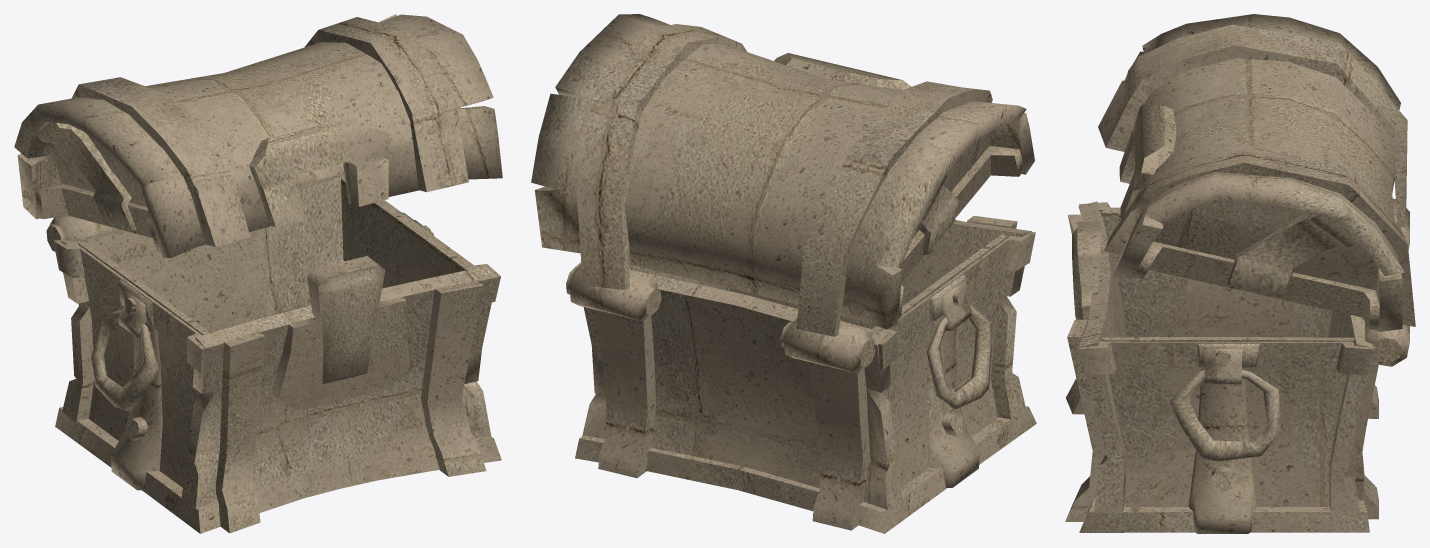
File: chestOpen.glb
3 views of the same model, side by side, from view 1: azimuth 30°, elevation 25°; view 2: azimuth 150°, elevation 25°; view 3: azimuth 270°, elevation 25° (orthographic). The views are drawn at different scales.
Visible parts, largest first — view 1: TreasureChestLootTier1_Searched; view 2: TreasureChestLootTier1_Searched; view 3: TreasureChestLootTier1_Searched.
Part boxes in pixels (x1,y1,x2,y2): TreasureChestLootTier1_Searched: (14,14,502,533); TreasureChestLootTier1_Searched: (531,14,1036,533); TreasureChestLootTier1_Searched: (1065,14,1415,533).
Bounding box in the file's own units: 0.8377 × 0.8101 × 0.7011.
1 material, 1 textured.
